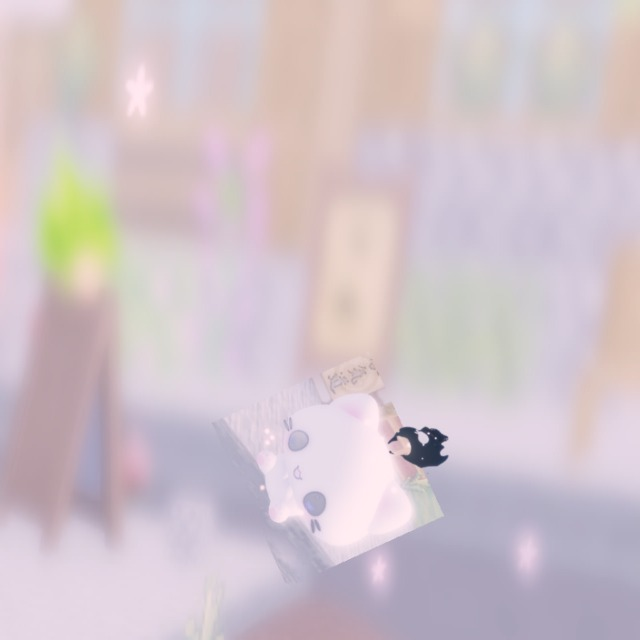urso_branco: (211, 351, 445, 588)
urso_preto: (373, 407, 467, 486)
